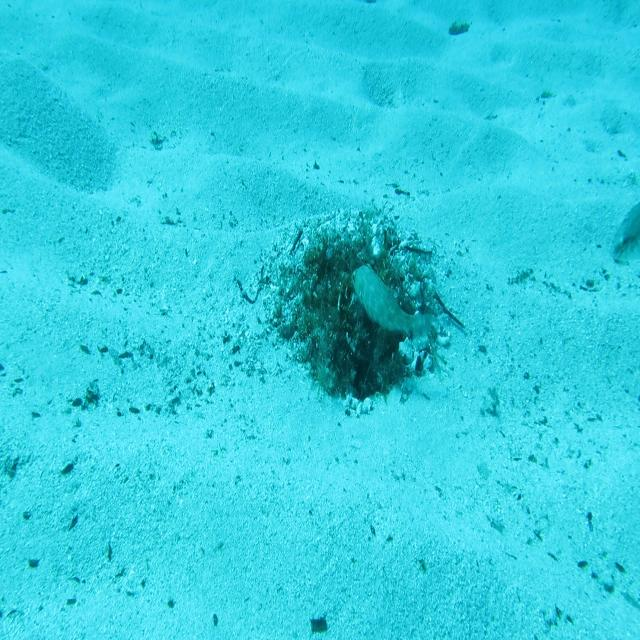FAN: (350, 260, 436, 358)
core_nest: (329, 254, 363, 282)
female: (607, 200, 640, 266)
nest: (259, 190, 456, 428)
vegetation: (448, 20, 473, 38), (310, 616, 328, 632)
